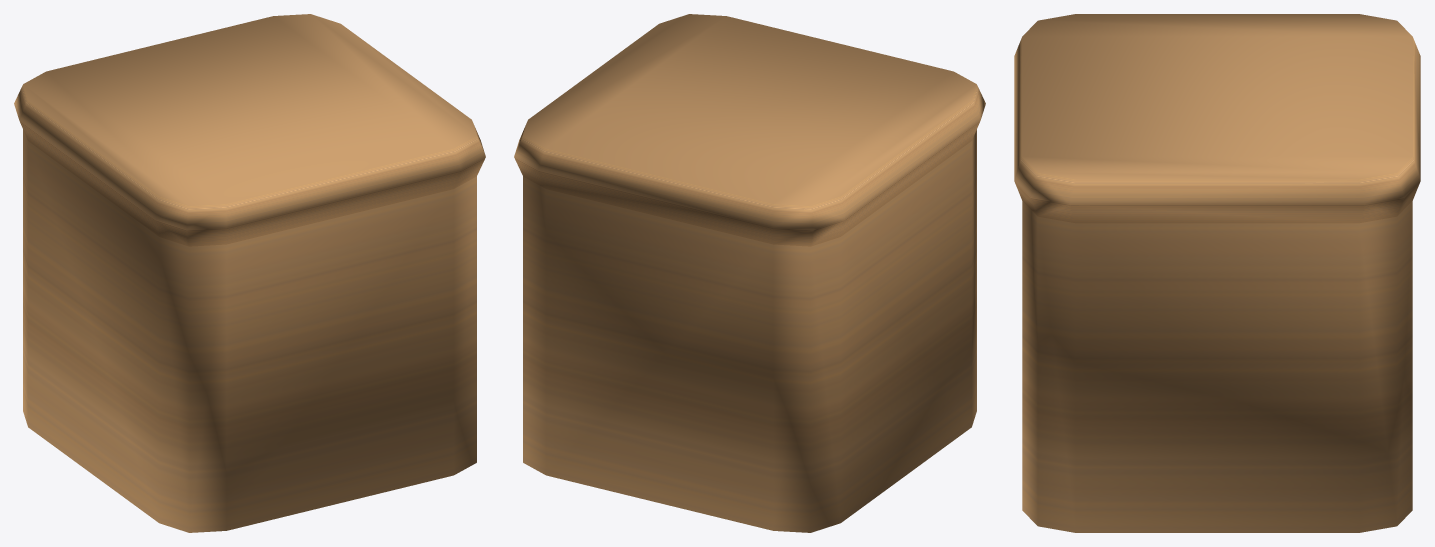
Rendered from block-grass-large-tall_sand.glb.
3 views of the same model, side by side, from view 1: azimuth 30°, elevation 25°; view 2: azimuth 150°, elevation 25°; view 3: azimuth 270°, elevation 25° (orthographic). The views are drawn at different scales.
Parts seen in each view (by area): view 1: block-grass-large-tall; view 2: block-grass-large-tall; view 3: block-grass-large-tall.
Part boxes in pixels (left/top/right/bottom): block-grass-large-tall: left=14, top=14, right=485, bottom=532; block-grass-large-tall: left=514, top=14, right=985, bottom=532; block-grass-large-tall: left=1014, top=14, right=1420, bottom=532.
Size of the model in its own units: 2.08 by 2 by 2.08.
1 material, 1 textured.
